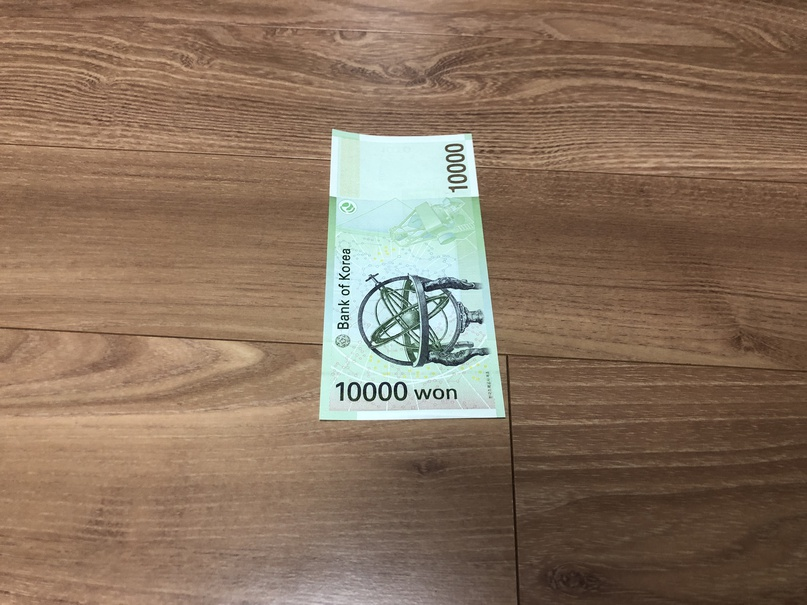10000won: (319, 126, 505, 421)
